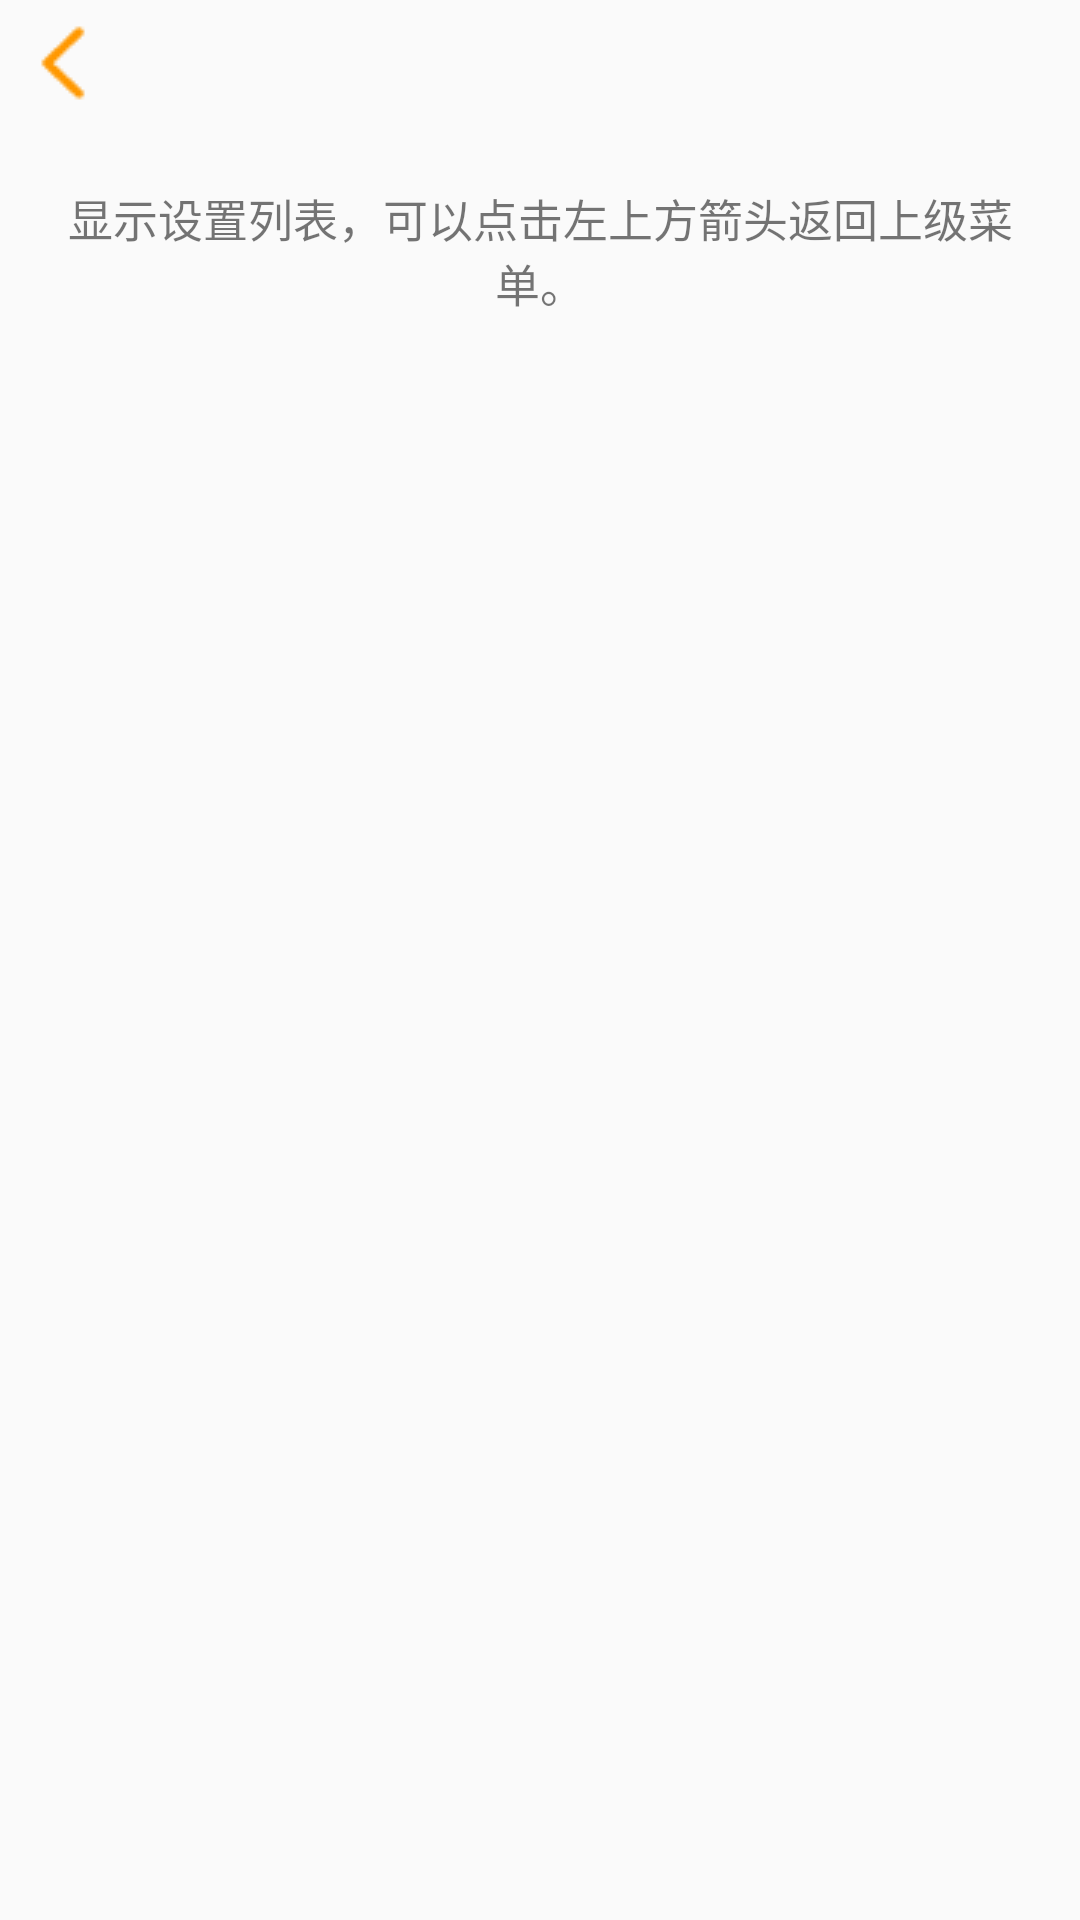

Icons on this 1080x1920 Android screen, each with its box as bbox=[x1, y1, x2, y2]:
back arrow: bbox=[41, 26, 85, 100]
